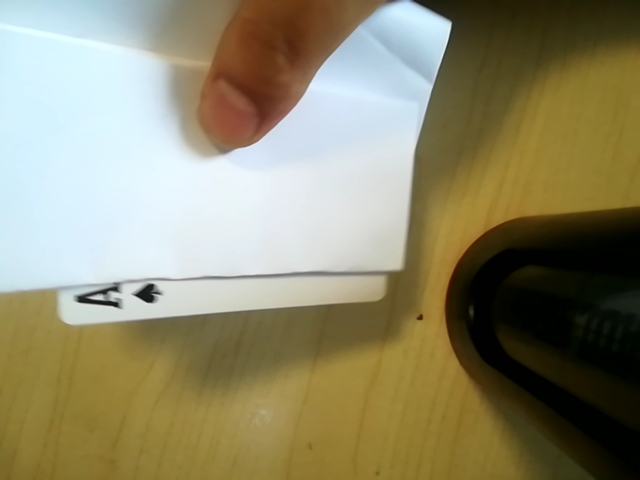ht a: (65, 271, 201, 325)
